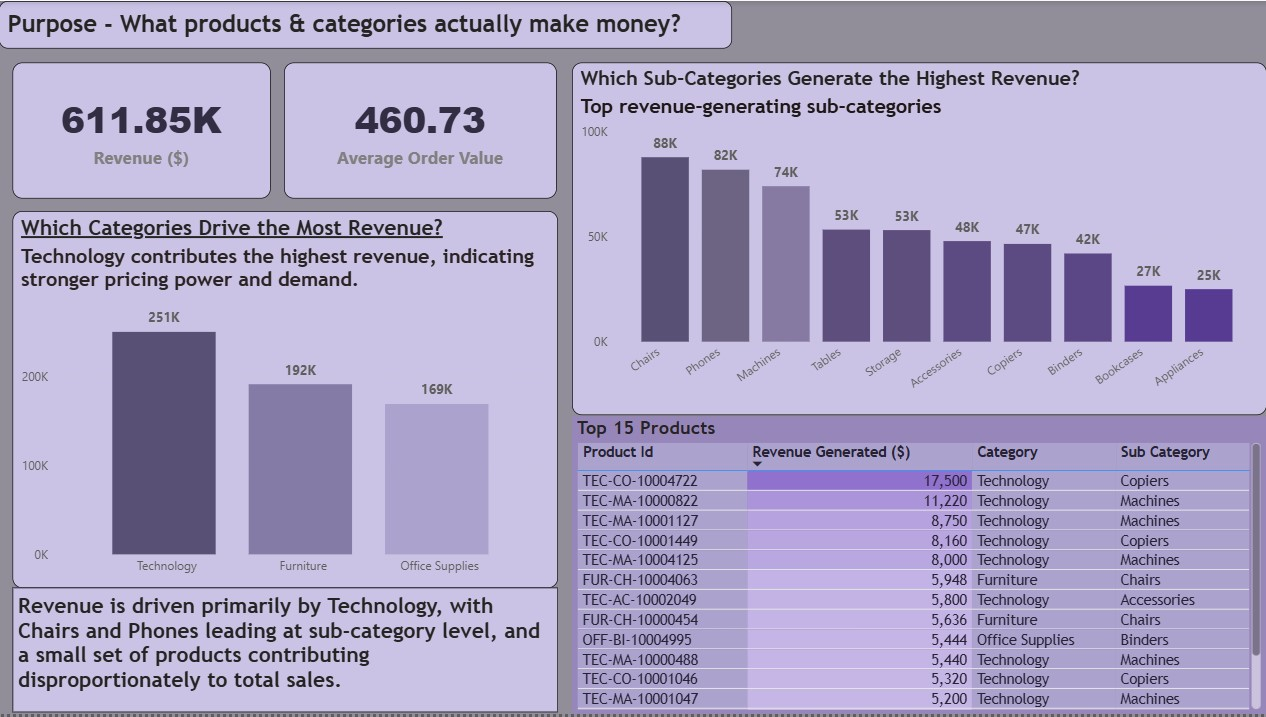

The page's visual inventory and layout, read from the dashboard file:
{"tool":"powerbi","page":{"name":"Sales and Product Performance ","canvas":[1280,720],"ordinal":1},"visuals":[{"type":"card","fields":{"Values":["superstore.Total Sales"]},"box":[13,61.5,260.8,137.7],"z":0},{"type":"textbox","box":[0,0,740.1,48.1],"z":1000},{"type":"card","fields":{"Values":["superstore.Average Order Value"]},"box":[288.3,61.5,275.3,137.7],"z":2000},{"type":"columnChart","title":"Which Categories Drive the Most Revenue?","fields":{"Y":["superstore.Revenue by Category"],"Category":["superstore.category"]},"box":[13,212.2,550.7,380.6],"z":3000},{"type":"columnChart","title":"Which Sub-Categories Generate the Highest Revenue?","fields":{"Y":["superstore.Revenue by Sub Category"],"Category":["superstore.sub_category"]},"box":[578,61.7,701.4,355.8],"z":4000},{"type":"tableEx","title":"Top 15 Products","fields":{"Values":["superstore.product_id","superstore.Total Revenue","superstore.category","superstore.sub_category"]},"box":[578.6,418.8,700.2,300.6],"z":5000},{"type":"textbox","box":[13,592.8,550.7,126.3],"z":6000}]}

Visuals, with their boxes in screenshot pixels (x1, y1, x2, y2), scaled from the page's 1280x720 canvas onto the 1266x717 screenshot:
card - superstore.Total Sales: {"x1": 13, "y1": 61, "x2": 271, "y2": 198}
textbox: {"x1": 0, "y1": 0, "x2": 732, "y2": 48}
card - superstore.Average Order Value: {"x1": 285, "y1": 61, "x2": 557, "y2": 198}
"Which Categories Drive the Most Revenue?" columnChart: {"x1": 13, "y1": 211, "x2": 558, "y2": 590}
"Which Sub-Categories Generate the Highest Revenue?" columnChart: {"x1": 572, "y1": 61, "x2": 1265, "y2": 416}
"Top 15 Products" tableEx: {"x1": 572, "y1": 417, "x2": 1265, "y2": 716}
textbox: {"x1": 13, "y1": 590, "x2": 558, "y2": 716}
